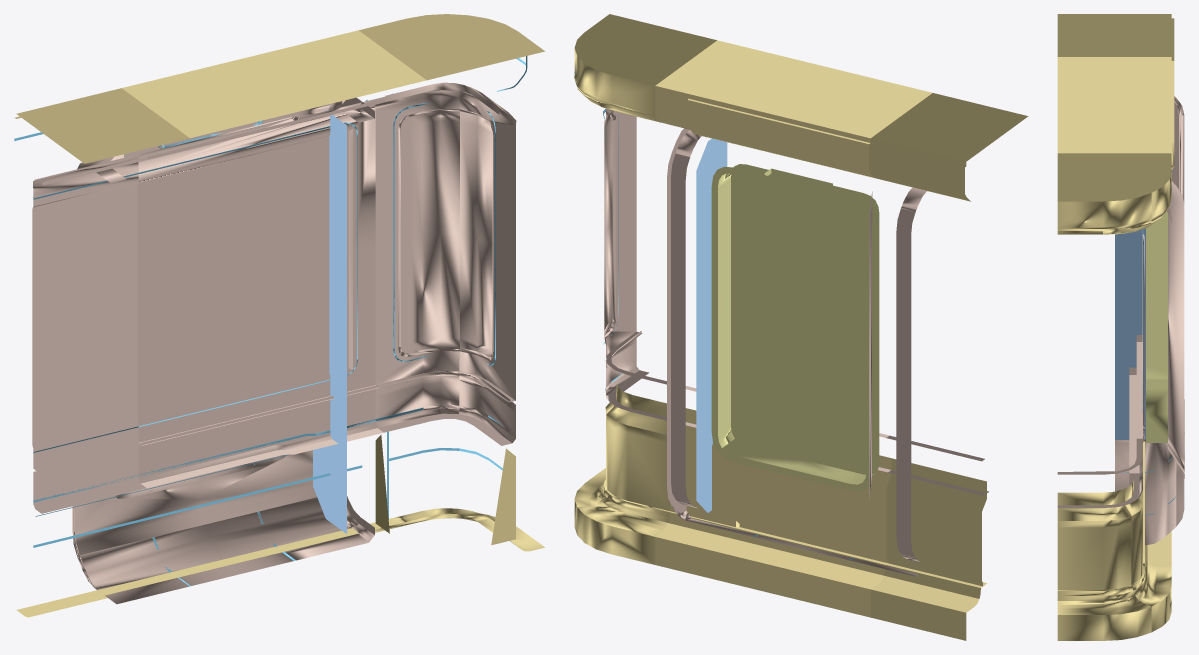
File: hosp_lobby_ground_wall_corridor_b_lod1.glb
3 views of the same model, side by side, from view 1: azimuth 30°, elevation 25°; view 2: azimuth 150°, elevation 25°; view 3: azimuth 270°, elevation 25° (orthographic). The views are drawn at different scales.
Bounding box in the file's own units: 3.89 × 4.25 × 1.11.
